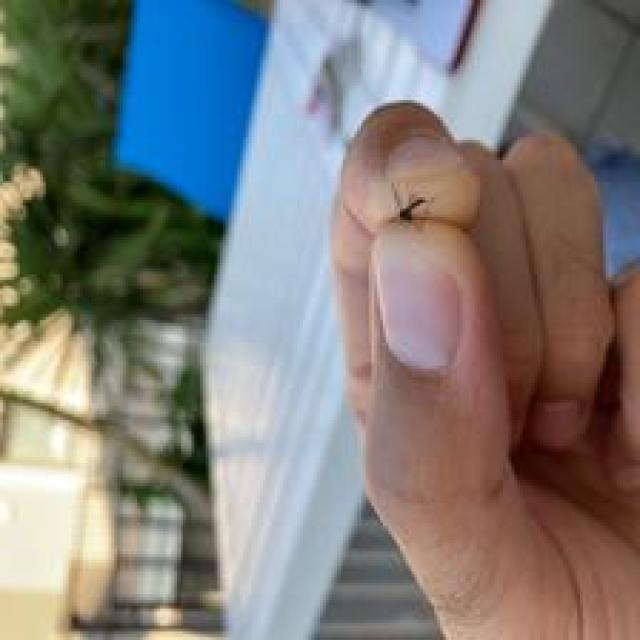Aedes albopictus: (388, 182, 428, 224)
